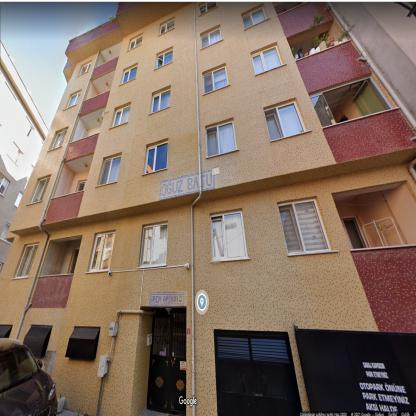door: (214, 331, 301, 414), (147, 315, 186, 415), (341, 216, 367, 249)
window: (310, 77, 392, 127), (278, 199, 331, 254), (210, 212, 248, 259), (264, 102, 306, 142), (140, 223, 167, 266), (206, 121, 237, 156), (90, 232, 114, 271), (252, 47, 282, 74), (16, 244, 38, 278), (145, 142, 167, 173), (204, 66, 228, 93), (99, 156, 121, 185), (243, 7, 266, 29), (151, 89, 170, 113), (32, 177, 50, 202), (201, 28, 221, 47), (112, 105, 130, 126), (156, 50, 173, 68), (52, 130, 67, 149), (122, 66, 137, 84), (1, 223, 12, 245), (67, 92, 80, 108), (200, 3, 218, 14), (160, 20, 174, 34), (1, 173, 9, 195), (130, 35, 142, 49), (80, 62, 91, 74), (15, 192, 22, 206), (78, 181, 86, 191)
